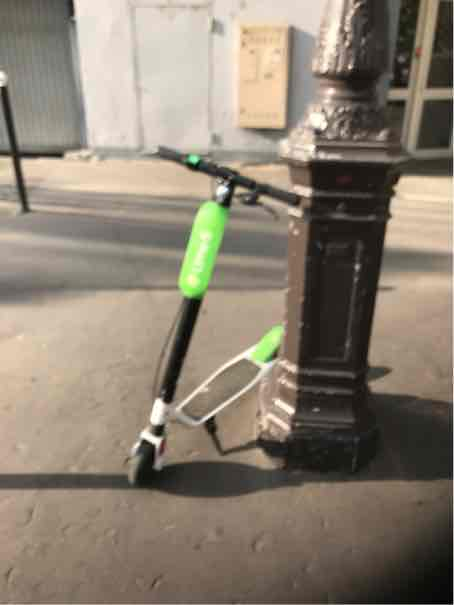scooter: (118, 129, 316, 503)
